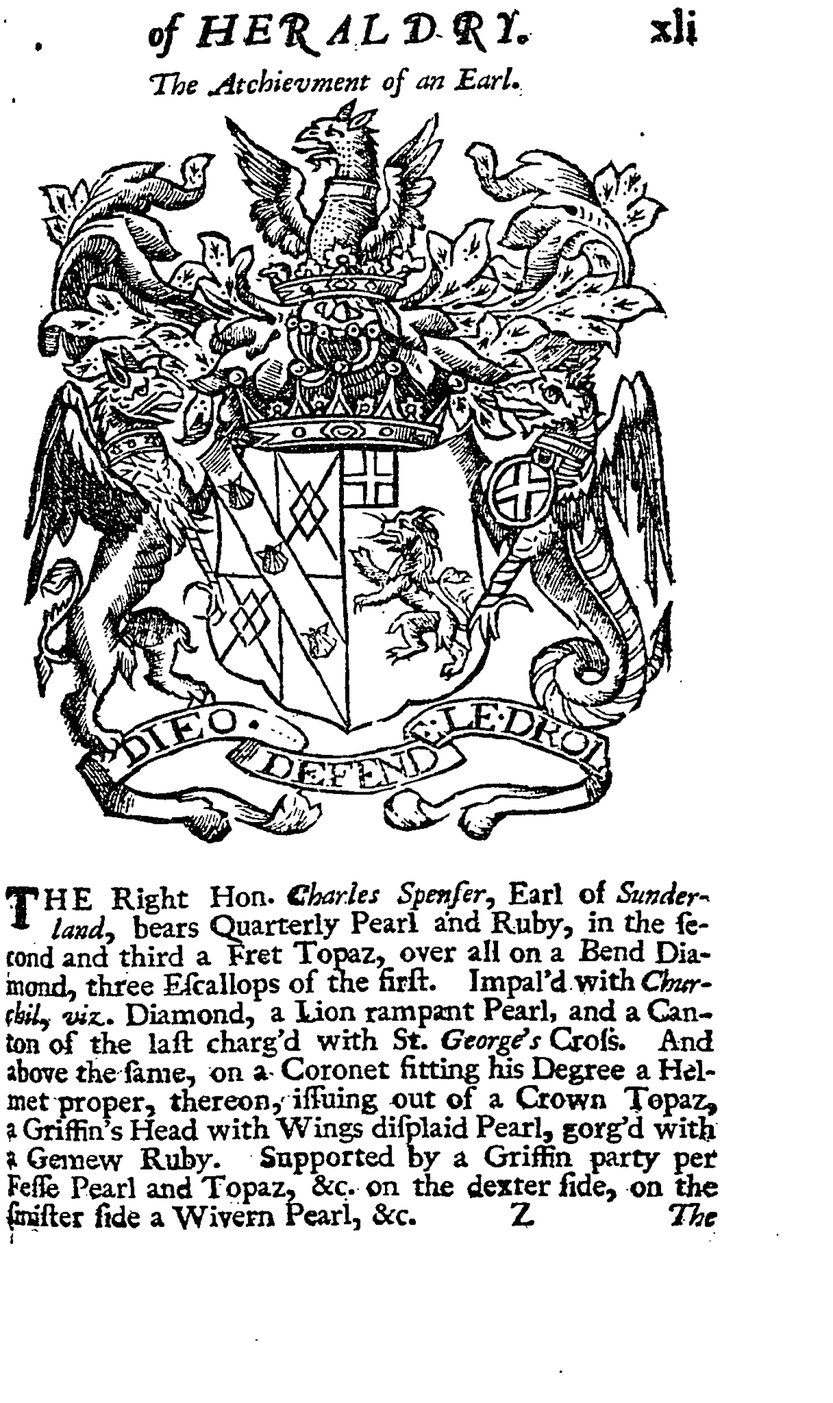coat_of_arms: (23, 103, 691, 836)
